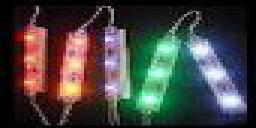LED: (100, 27, 131, 104), (19, 24, 50, 93), (58, 30, 87, 101)
